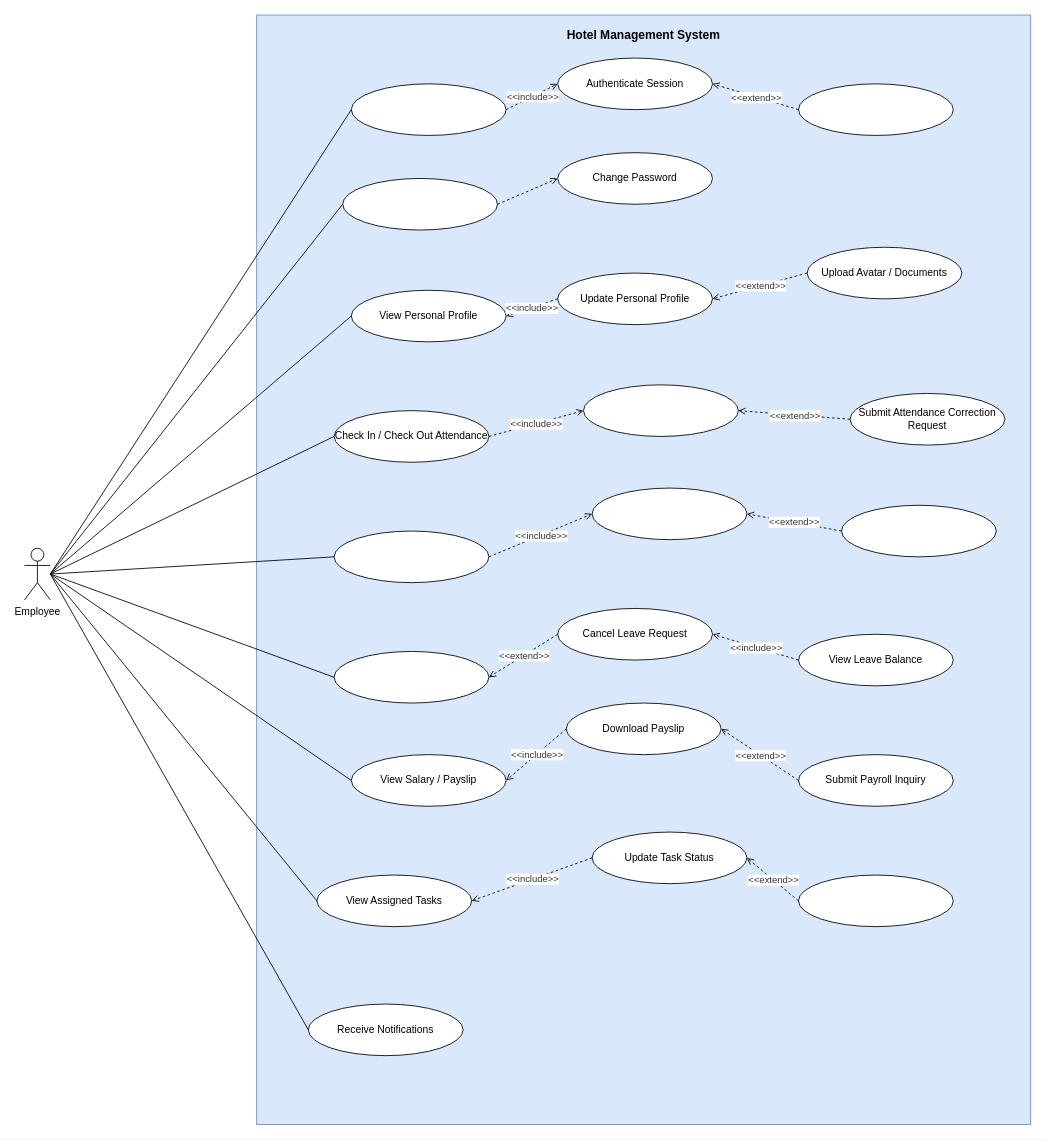
This 1046x1140 diagram has some shape labels left out. The shapes that lost their labels are listed below. From the top down, each one's centre as x and y in pixels, then its label:
At pixel 428 109: "Login".
At pixel 875 109: "Reset Forgotten Password".
At pixel 420 204: "Logout".
At pixel 660 410: "View Attendance History".
At pixel 669 513: "Register Shift Preference".
At pixel 918 530: "Request Shift Swap".
At pixel 411 556: "View Work Schedule / Shift".
At pixel 411 677: "Submit Leave Request".
At pixel 875 900: "View Internal Announcements".
